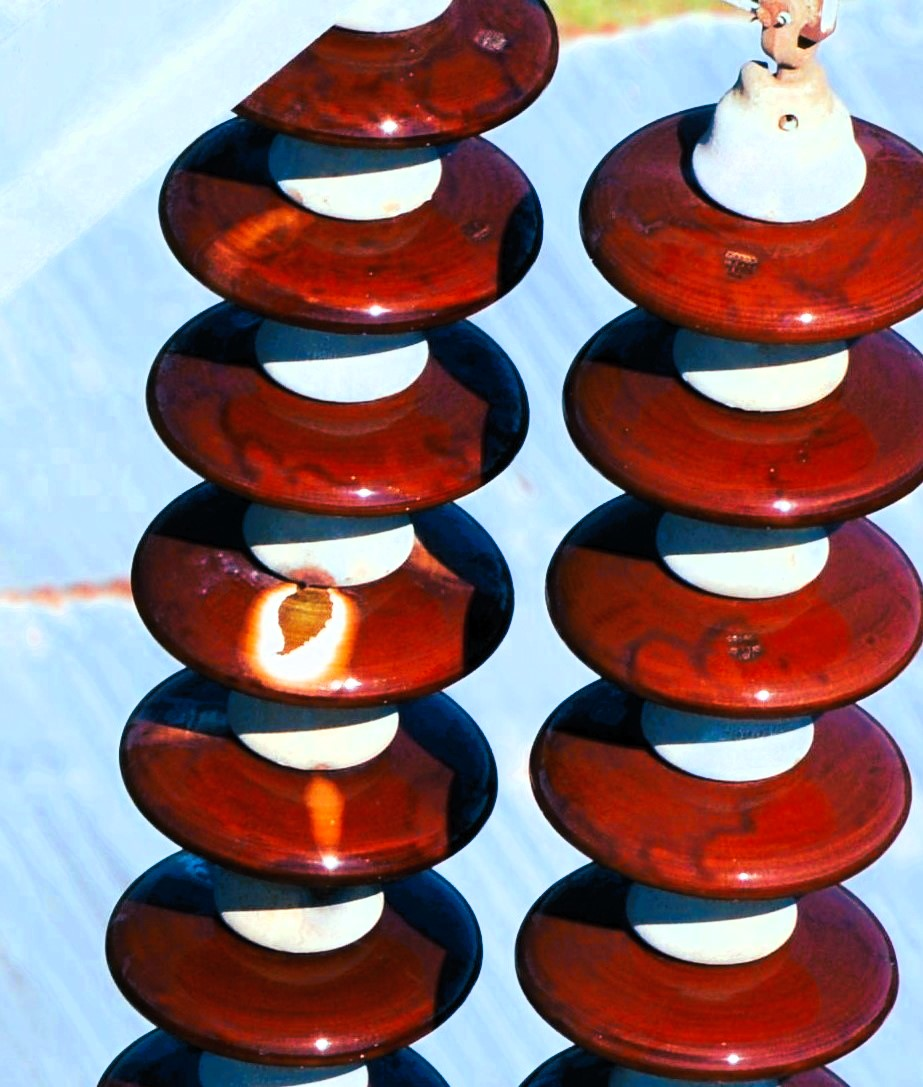Insulator flashover: (121, 479, 518, 708)
